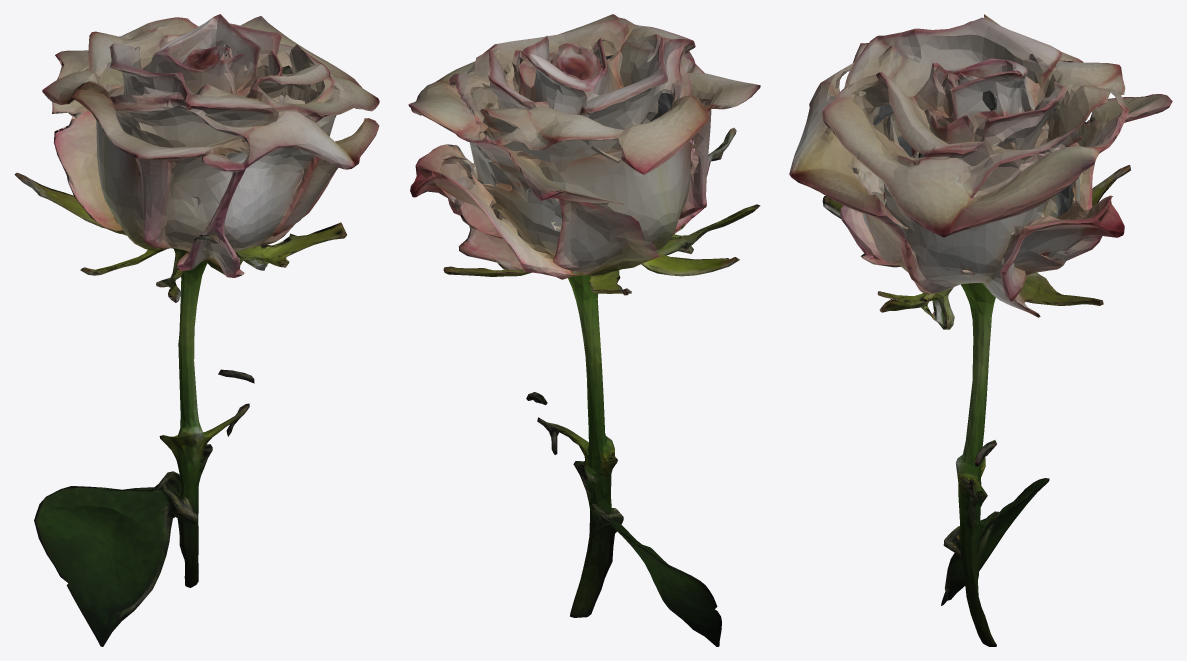
The picture shows the model from 3 angles, left to right: view 1: azimuth 30°, elevation 25°; view 2: azimuth 150°, elevation 25°; view 3: azimuth 270°, elevation 25°; orthographic projection. The views are drawn at different scales.
Visible parts, largest first — view 1: world; view 2: world; view 3: world.
Part boxes in pixels (left/top/right/bottom): world: left=14, top=14, right=379, bottom=646; world: left=408, top=14, right=760, bottom=646; world: left=789, top=14, right=1172, bottom=646.
Bounding box in the file's own units: 0.5549 × 0.99 × 0.5594.
1 material, 1 textured.
